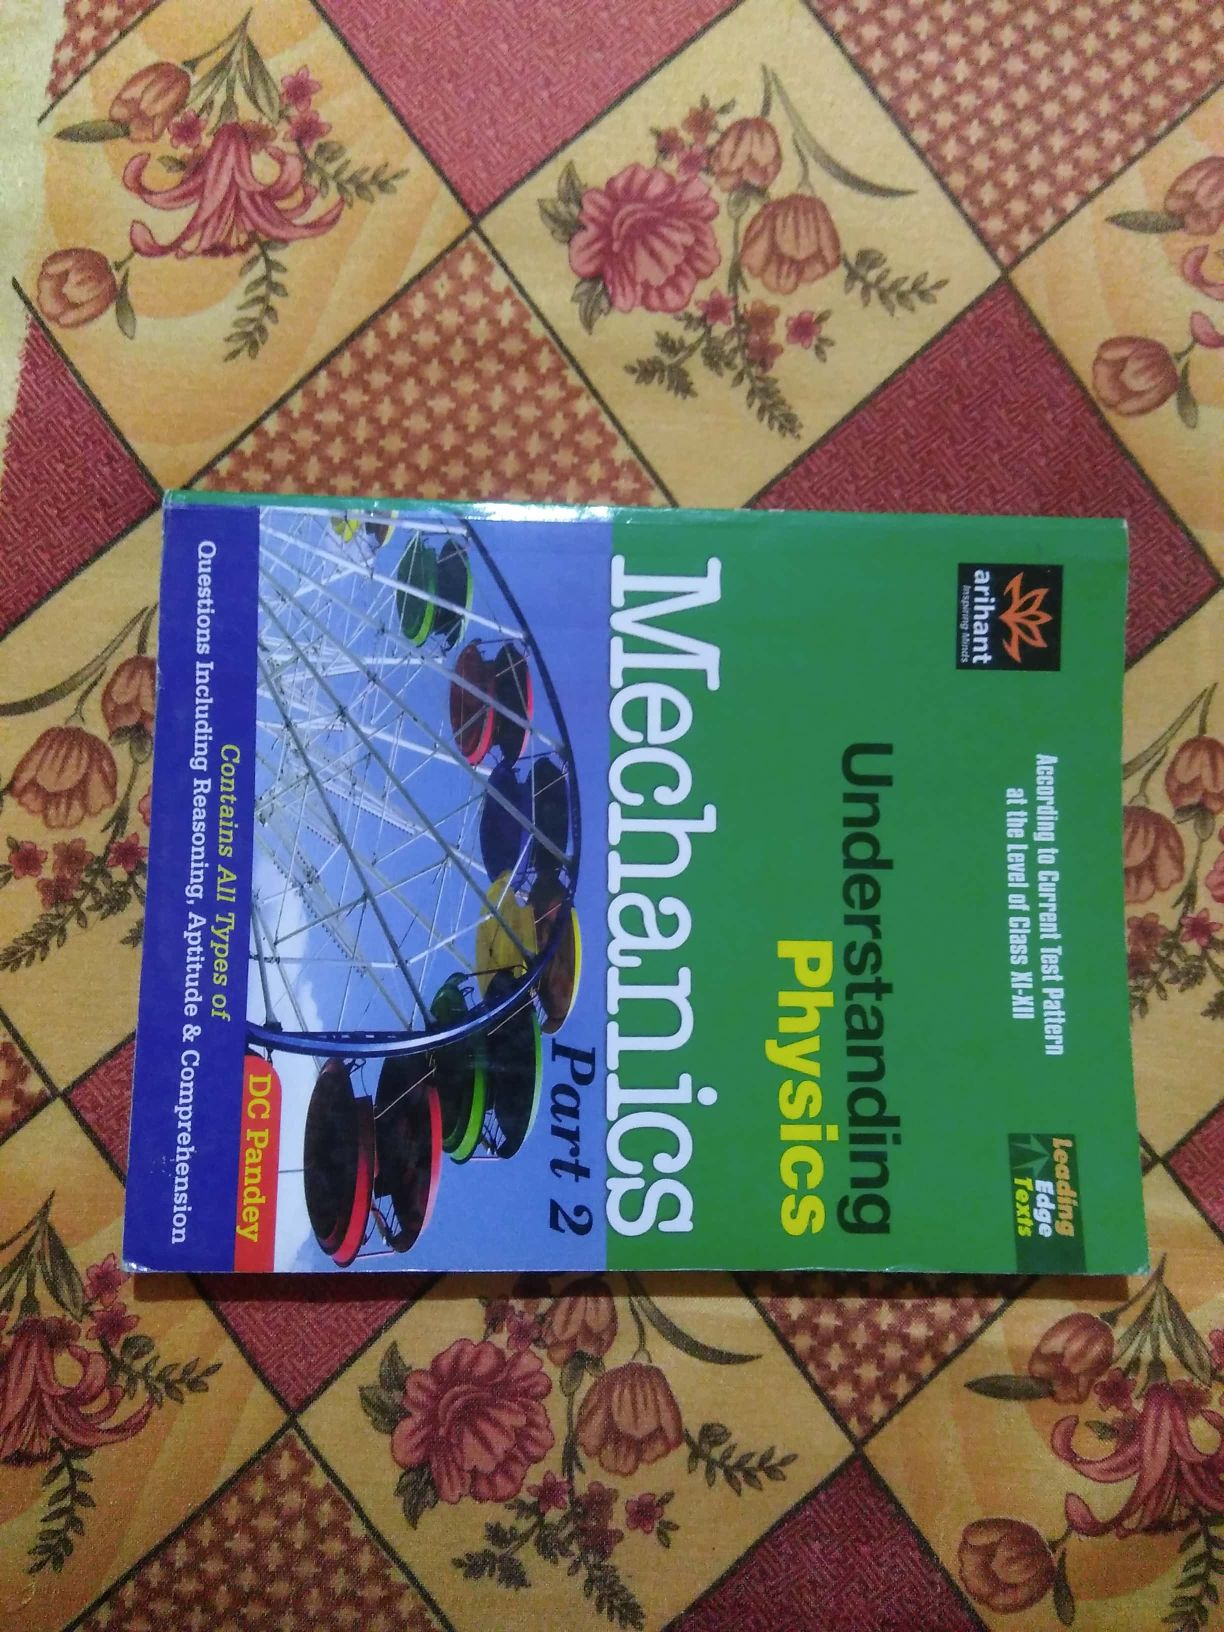mechanics: (120, 432, 1182, 1397)
